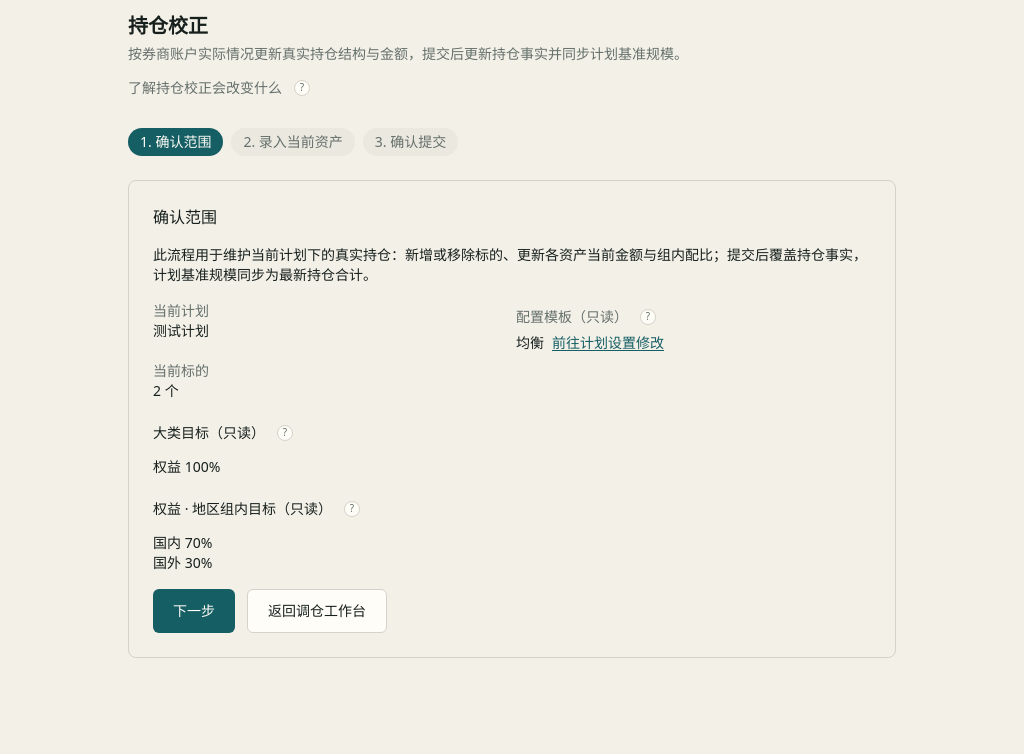
Test: AssetRefreshPage › shows inline money unit and magnitude hint on entry step
Click the button "下一步": {"x": 194, "y": 611} 153,589 -> 235,633
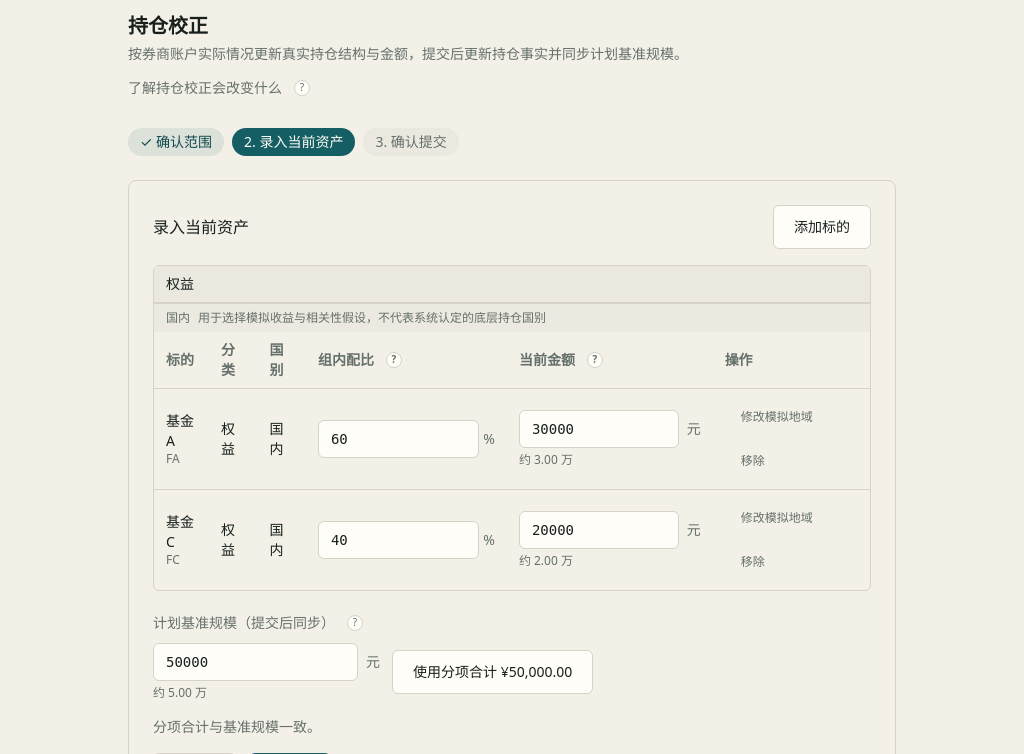
Now the heading "录入当前资产" is shown, box 153,215 -> 249,239
